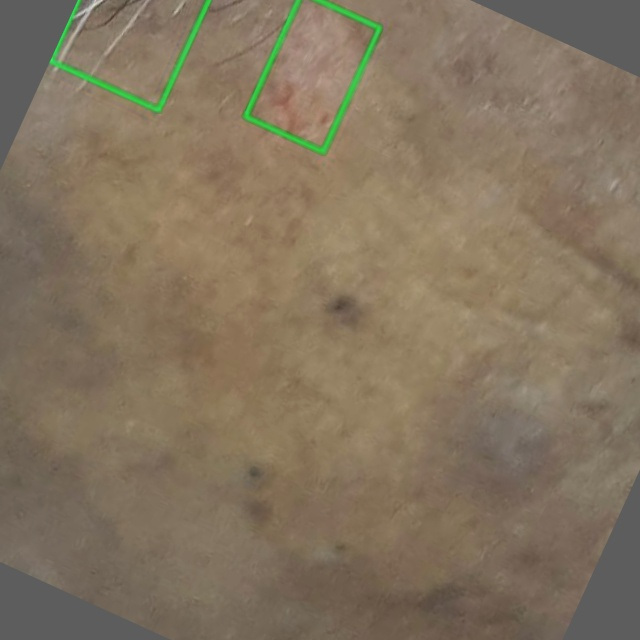Contact Dermatitis: (245, 0, 379, 151)
